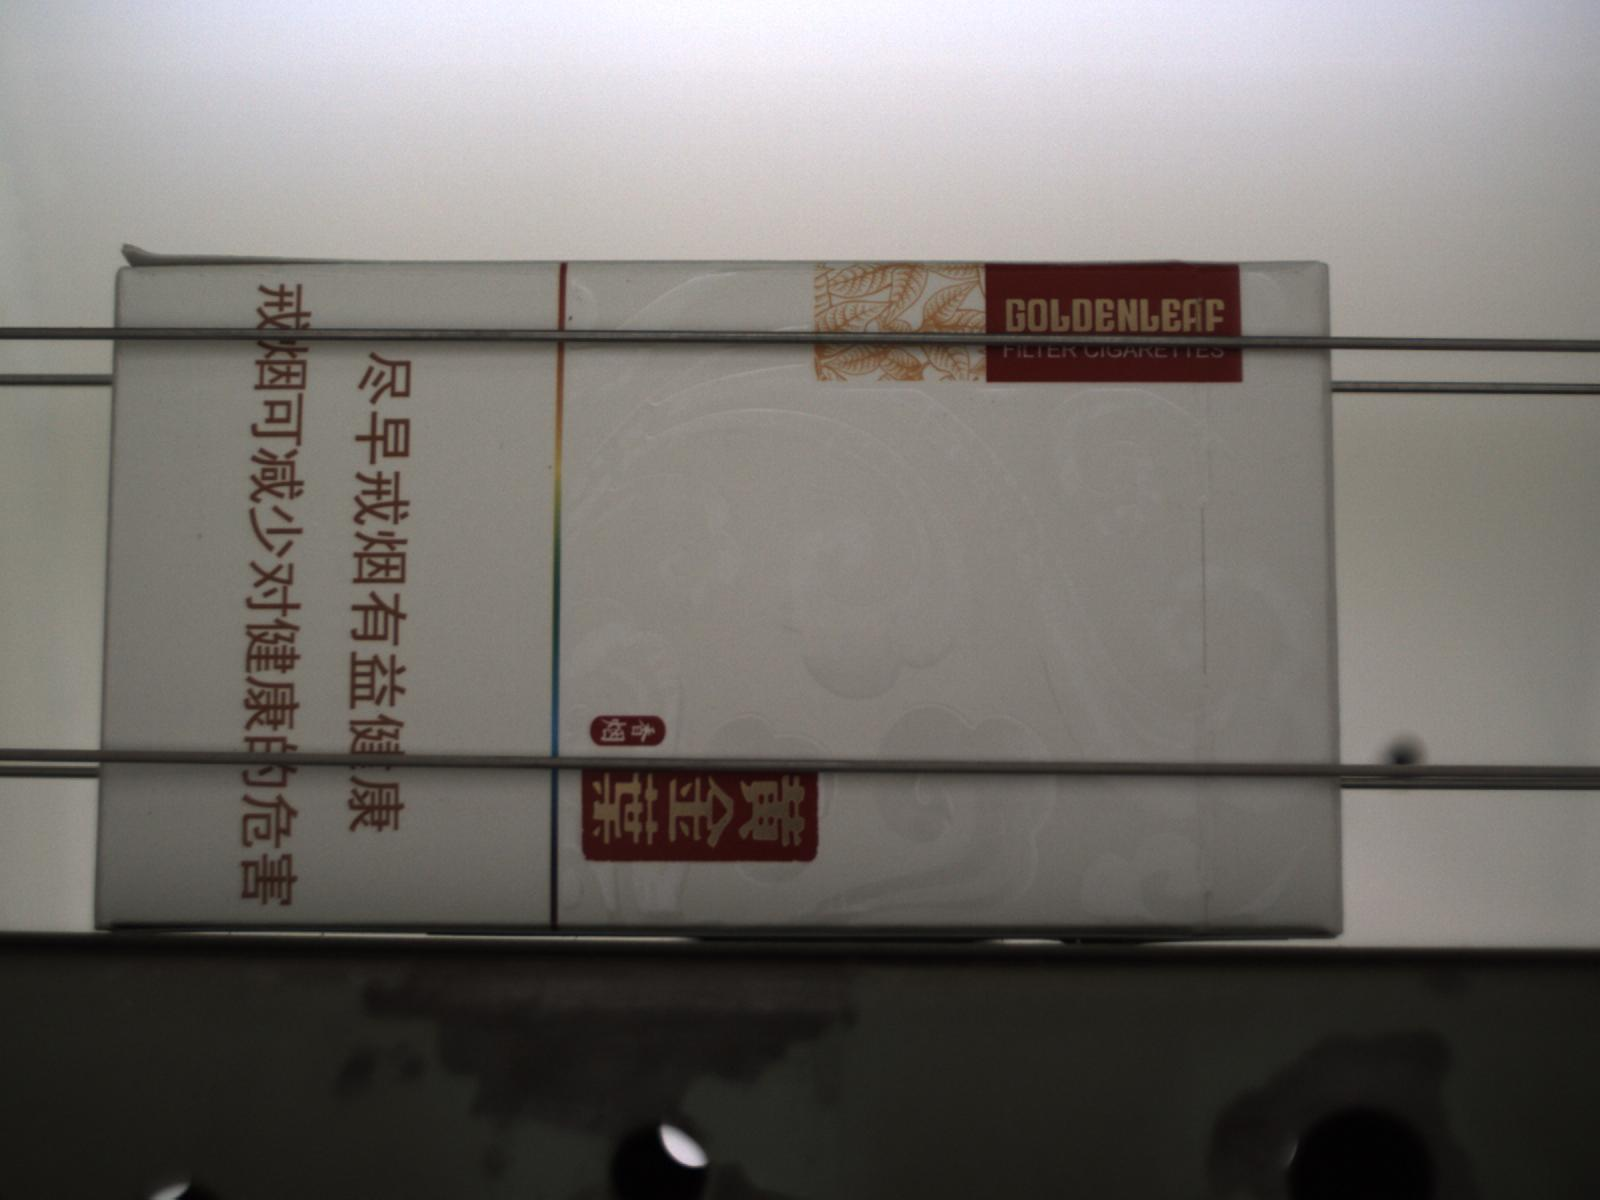bottomUpwarp_upper_1: (117, 242, 354, 268), (195, 531, 205, 539), (547, 463, 553, 470)
dirtySpot: (566, 313, 576, 321)
